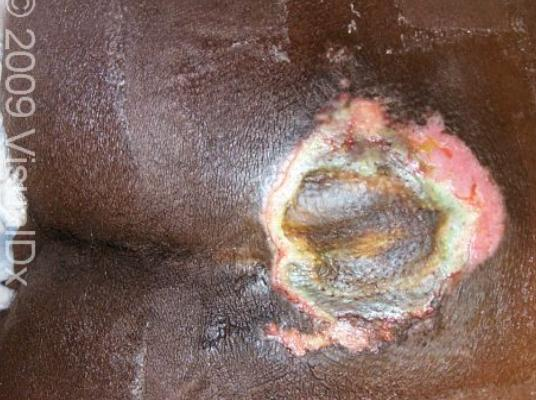Stage3: (201, 73, 523, 383)
